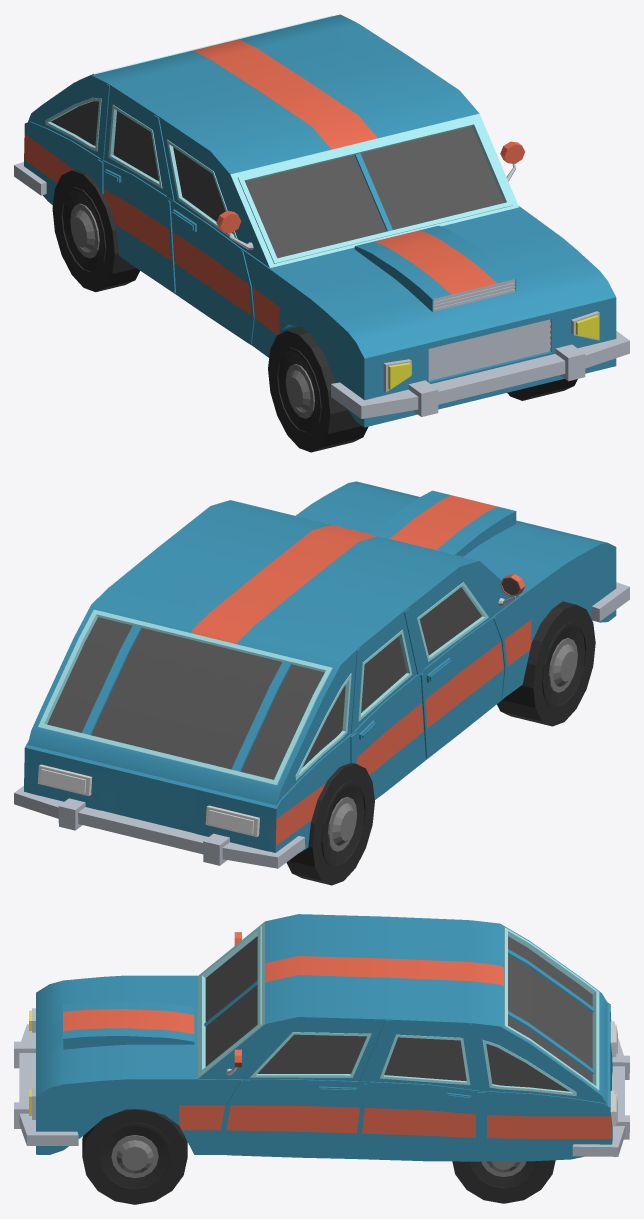
Rendered from civil-car-A.fbx.
The picture shows the model from 3 angles, top to bottom: view 1: azimuth 30°, elevation 25°; view 2: azimuth 150°, elevation 25°; view 3: azimuth 270°, elevation 25°; orthographic projection. The views are drawn at different scales.
Visible parts, largest first — view 1: civil-car-A, civil-car-A-front-wheels, civil-car-A-rear-wheels; view 2: civil-car-A, civil-car-A-front-wheels, civil-car-A-rear-wheels; view 3: civil-car-A, civil-car-A-front-wheels, civil-car-A-rear-wheels.
Part boxes in pixels (box(x1,y1,x2,y2)): civil-car-A: box(14, 14, 629, 427); civil-car-A-front-wheels: box(268, 327, 577, 452); civil-car-A-rear-wheels: box(52, 169, 139, 292); civil-car-A: box(14, 481, 629, 868); civil-car-A-front-wheels: box(497, 601, 595, 726); civil-car-A-rear-wheels: box(286, 763, 374, 885); civil-car-A: box(14, 914, 629, 1161); civil-car-A-front-wheels: box(82, 1109, 187, 1204); civil-car-A-rear-wheels: box(452, 1160, 555, 1203).
Size of the model in its own units: 2.1 by 1.48 by 4.35.
